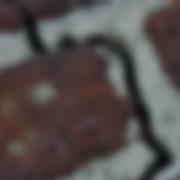brick: (0, 46, 145, 179), (143, 0, 179, 91)
broken_brick: (20, 0, 106, 22), (0, 2, 24, 34), (166, 172, 179, 179)
crack: (0, 0, 178, 179)
